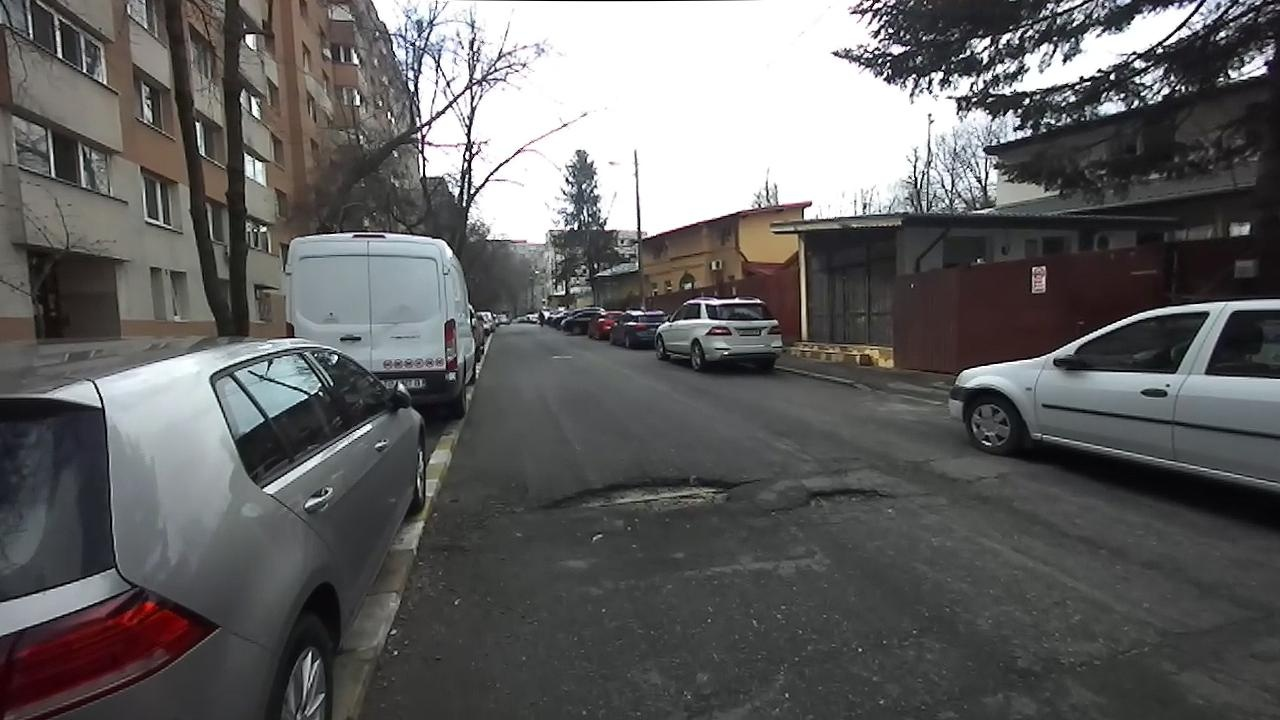pothole: (527, 470, 761, 521), (768, 484, 900, 516)
